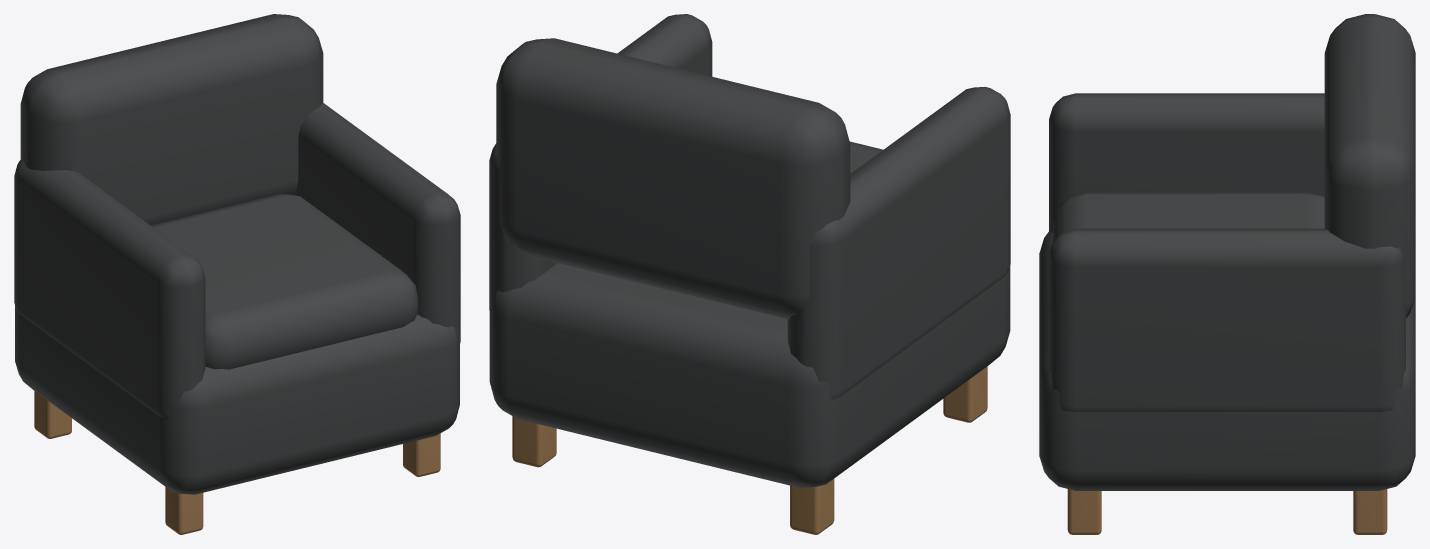
Rendered from prod-1773061941304-wa6zb.glb.
3 renders of one model, left to right at view 1: azimuth 30°, elevation 25°; view 2: azimuth 150°, elevation 25°; view 3: azimuth 270°, elevation 25°, orthographic. The views are drawn at different scales.
Visible parts, largest first — view 1: Sofa base.005, Sofa foot.020; view 2: Sofa base.005, Sofa foot.020; view 3: Sofa base.005, Sofa foot.020.
Part boxes in pixels (bbox=[...]): Sofa base.005: bbox=[14, 14, 460, 494]; Sofa foot.020: bbox=[34, 391, 440, 534]; Sofa base.005: bbox=[489, 14, 1010, 487]; Sofa foot.020: bbox=[512, 366, 987, 534]; Sofa base.005: bbox=[1039, 14, 1415, 490]; Sofa foot.020: bbox=[1067, 489, 1387, 534].
Bounding box in the file's own units: 0.64 × 0.73 × 0.64.
